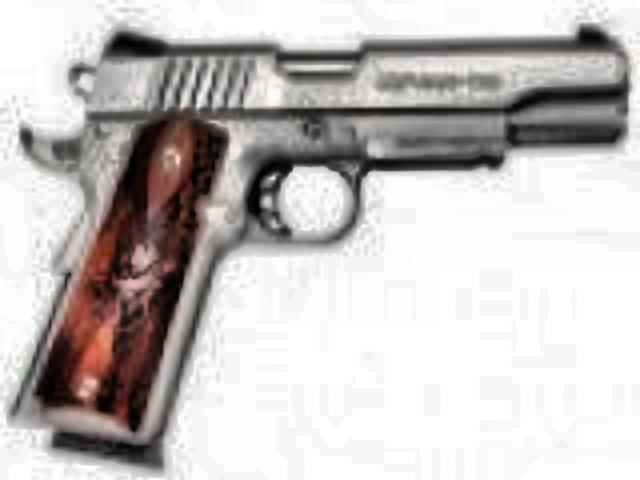pistol: (20, 16, 628, 456)
